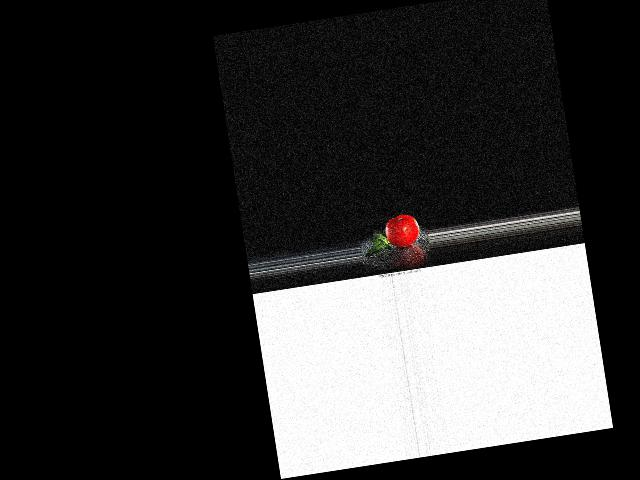tomato: (383, 212, 421, 249)
